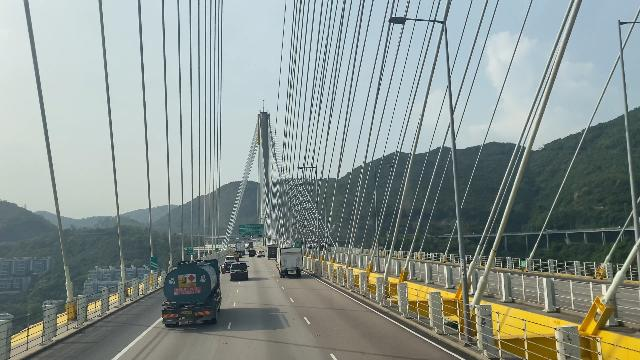car: (231, 259, 249, 283), (223, 261, 236, 273), (225, 256, 237, 264), (230, 252, 240, 261), (234, 251, 243, 257), (257, 250, 265, 256)
truck: (161, 258, 223, 326), (274, 246, 308, 279), (266, 244, 278, 259), (236, 241, 245, 255)
van: (249, 249, 256, 256)
